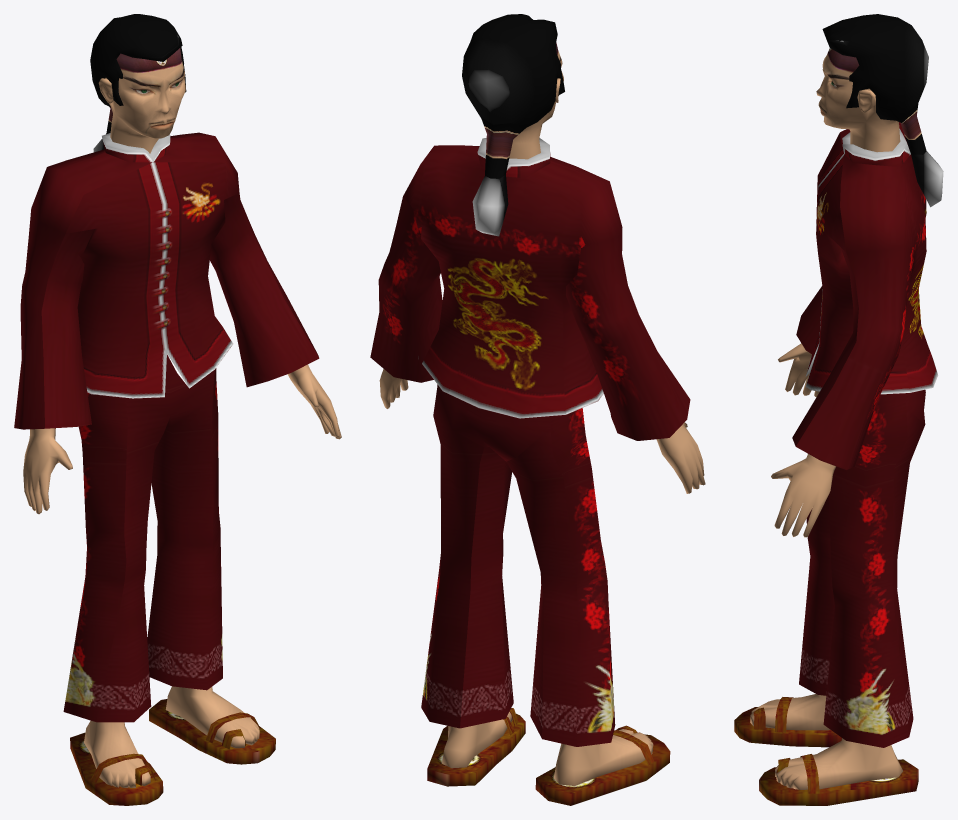
File: Wang Lei.glb
3 renders of one model, left to right at view 1: azimuth 30°, elevation 25°; view 2: azimuth 150°, elevation 25°; view 3: azimuth 270°, elevation 25°, orthographic. The views are drawn at different scales.
Visible parts, largest first — view 1: Wang OK; view 2: Wang OK; view 3: Wang OK.
Part boxes in pixels (x1,y1,x2,y2): Wang OK: [14, 14, 341, 805]; Wang OK: [370, 14, 705, 805]; Wang OK: [734, 14, 943, 805].
Size of the model in its own units: 2.09 by 4.79 by 1.23.
Materials: 1 (1 with a texture image).
